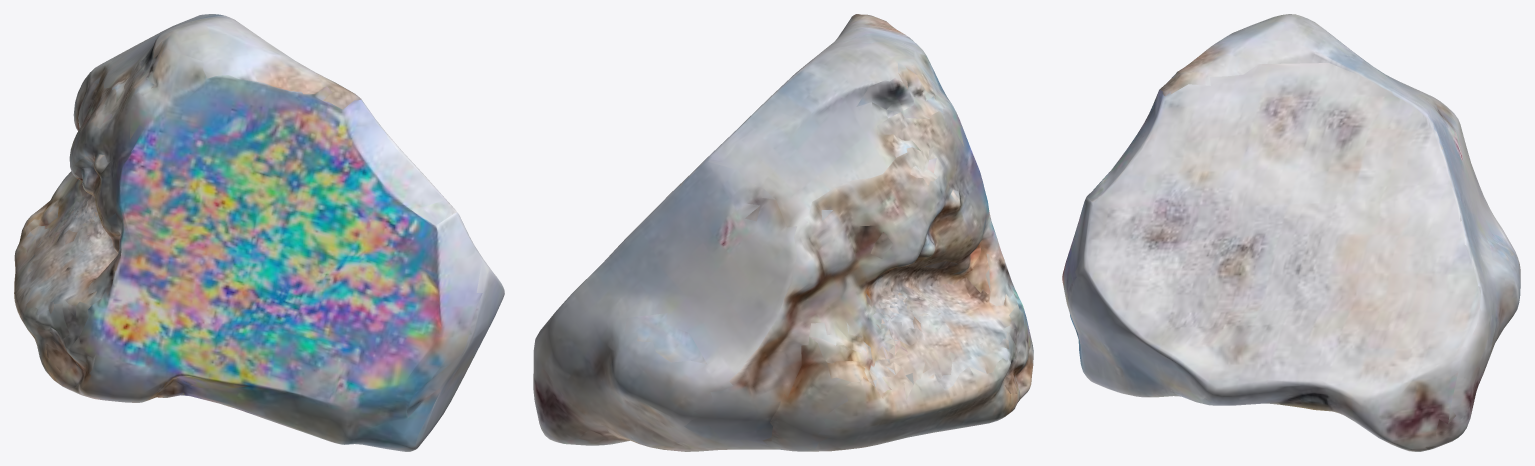
Rendered from opal.glb.
3 views of the same model, side by side, from view 1: azimuth 30°, elevation 25°; view 2: azimuth 150°, elevation 25°; view 3: azimuth 270°, elevation 25° (orthographic). The views are drawn at different scales.
Visible parts, largest first — view 1: opal; view 2: opal; view 3: opal.
Boxes of the visible parts, left/top/right/bottom form: opal: left=14, top=14, right=504, bottom=451; opal: left=533, top=14, right=1033, bottom=451; opal: left=1062, top=14, right=1520, bottom=451.
Bounding box in the file's own units: 0.9082 × 0.7928 × 1.
Materials: 1 (1 with a texture image).
